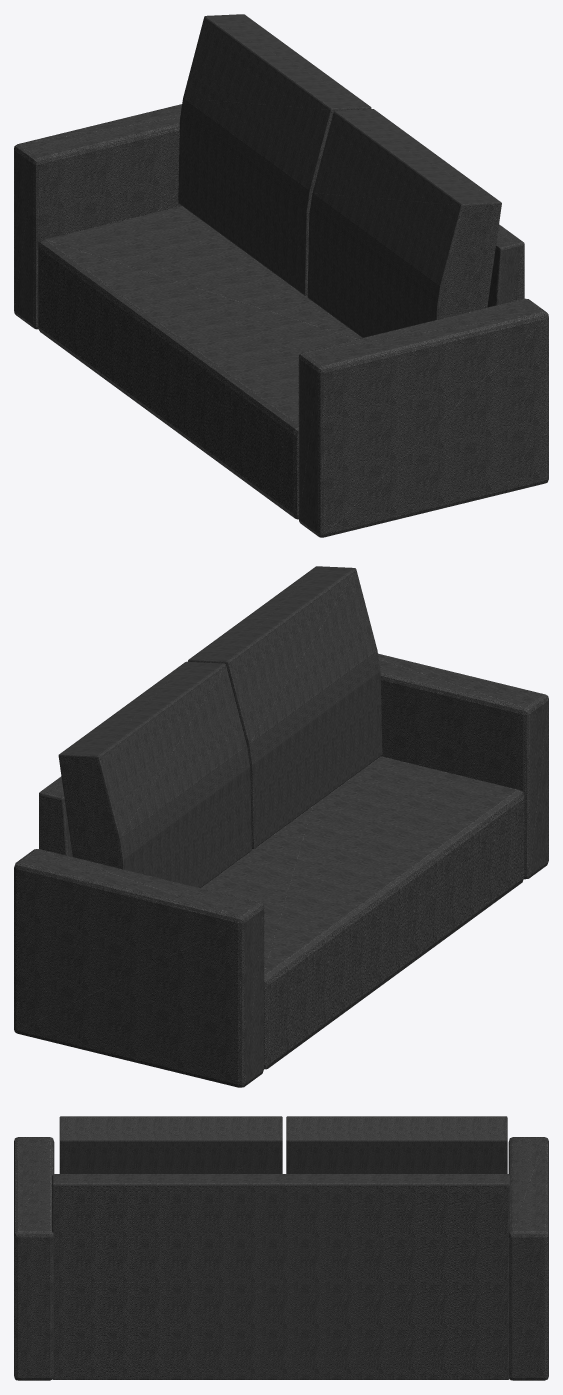
File: CK-shafa0004-CJBZ.FBX
3 views of the same model, one above another, from view 1: azimuth 30°, elevation 25°; view 2: azimuth 150°, elevation 25°; view 3: azimuth 270°, elevation 25° (orthographic). The views are drawn at different scales.
Visible parts, largest first — view 1: CK-shafa0004-CJBZ; view 2: CK-shafa0004-CJBZ; view 3: CK-shafa0004-CJBZ.
Boxes of the visible parts, bbox=[...] form: CK-shafa0004-CJBZ: bbox=[14, 14, 548, 537]; CK-shafa0004-CJBZ: bbox=[14, 566, 548, 1087]; CK-shafa0004-CJBZ: bbox=[14, 1116, 548, 1380].
Size of the model in its own units: 0.8936 by 1.02 by 2.07.
Materials: 1 (1 with a texture image).
